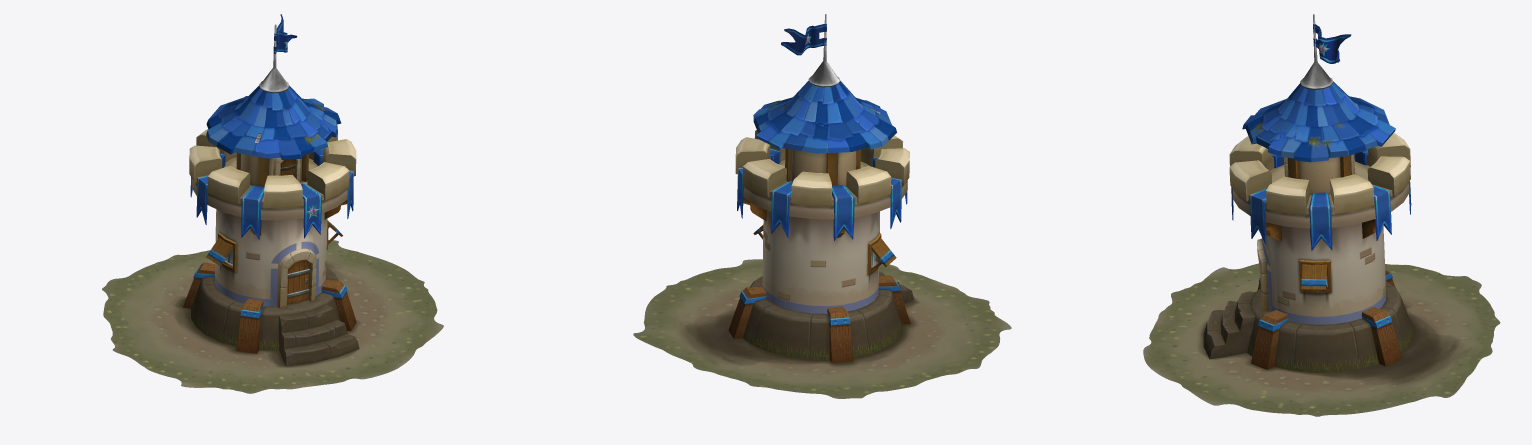
Rendered from defense_tower_done_on_a_phone_with_spacedraw.glb.
3 renders of one model, left to right at view 1: azimuth 30°, elevation 25°; view 2: azimuth 150°, elevation 25°; view 3: azimuth 270°, elevation 25°, orthographic. The views are drawn at different scales.
Parts seen in each view (by area): view 1: Object_3, Object_2; view 2: Object_3, Object_2; view 3: Object_3, Object_2.
Boxes of the visible parts, x1=… form: Object_3: x1=183, y1=14, x2=359, y2=366; Object_2: x1=102, y1=240, x2=443, y2=393; Object_3: x1=728, y1=14, x2=913, y2=362; Object_2: x1=633, y1=259, x2=1011, y2=398; Object_3: x1=1203, y1=14, x2=1412, y2=372; Object_2: x1=1143, y1=263, x2=1500, y2=416.
Size of the model in its own units: 21.5 by 18.58 by 20.26.
2 materials, 2 textured.
